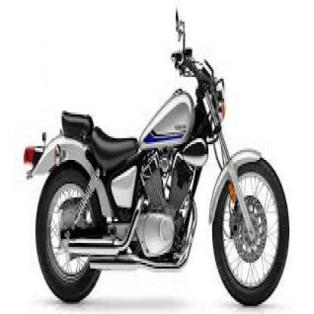Motocicleta: (19, 6, 294, 305)
